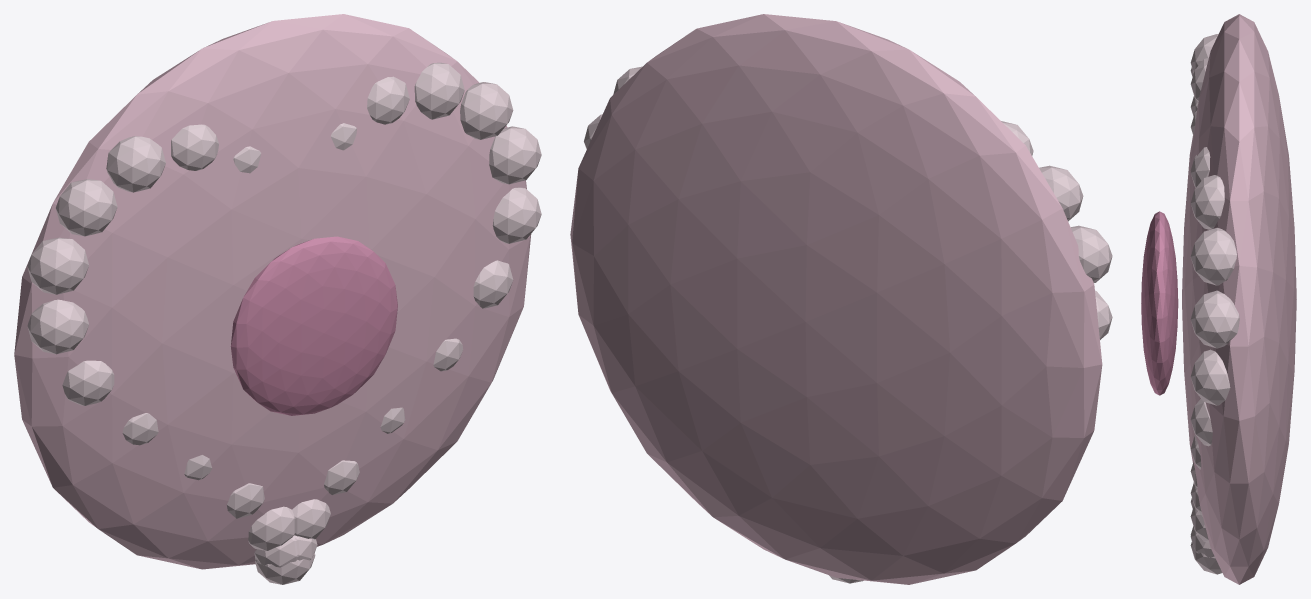
The model's file is heart_pillow.glb.
The picture shows the model from 3 angles, left to right: view 1: azimuth 30°, elevation 25°; view 2: azimuth 150°, elevation 25°; view 3: azimuth 270°, elevation 25°; orthographic projection. The views are drawn at different scales.
Parts seen in each view (by area): view 1: heart_cushion, heart_embroidery, ruffle24, ruffle23, ruffle25, ruffle22, ruffle6, ruffle7, ruffle5, ruffle8, ruffle21, ruffle26 (+10 smaller); view 2: heart_cushion, ruffle23, ruffle24; view 3: heart_cushion, heart_embroidery, ruffle7, ruffle6, ruffle8, ruffle5, ruffle9, ruffle4, ruffle25, ruffle15, ruffle26, ruffle13 (+2 smaller).
Part boxes in pixels (bbox=[...]): heart_cushion: bbox=[14, 14, 531, 569]; heart_embroidery: bbox=[230, 236, 397, 415]; ruffle24: bbox=[56, 179, 117, 236]; ruffle23: bbox=[27, 237, 88, 294]; ruffle25: bbox=[106, 136, 165, 192]; ruffle22: bbox=[27, 299, 88, 354]; ruffle6: bbox=[460, 82, 513, 139]; ruffle7: bbox=[489, 126, 541, 184]; ruffle5: bbox=[414, 62, 464, 119]; ruffle8: bbox=[492, 187, 541, 243]; ruffle21: bbox=[62, 360, 114, 405]; ruffle26: bbox=[171, 124, 218, 170]; heart_cushion: bbox=[570, 14, 1102, 584]; ruffle23: bbox=[1070, 225, 1112, 282]; ruffle24: bbox=[1039, 165, 1083, 221]; heart_cushion: bbox=[1182, 14, 1296, 584]; heart_embroidery: bbox=[1141, 211, 1178, 395]; ruffle7: bbox=[1190, 290, 1239, 348]; ruffle6: bbox=[1190, 227, 1236, 285]; ruffle8: bbox=[1190, 349, 1230, 405]; ruffle5: bbox=[1190, 175, 1224, 229]; ruffle9: bbox=[1190, 398, 1212, 446]; ruffle4: bbox=[1190, 147, 1210, 187]; ruffle25: bbox=[1190, 34, 1218, 72]; ruffle15: bbox=[1190, 542, 1222, 574]; ruffle26: bbox=[1190, 57, 1208, 101]; ruffle13: bbox=[1190, 505, 1209, 542].
Bounding box in the file's own units: 1.3 × 1.33 × 0.352.
